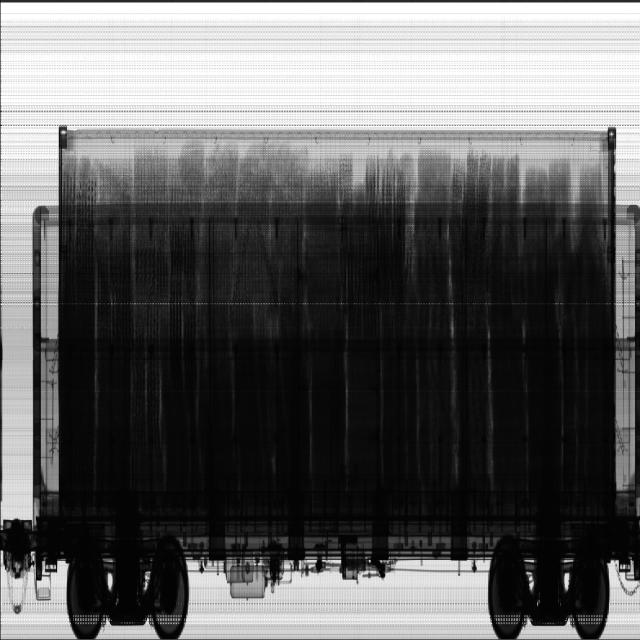clothes: (521, 160, 606, 235), (418, 155, 452, 208)
